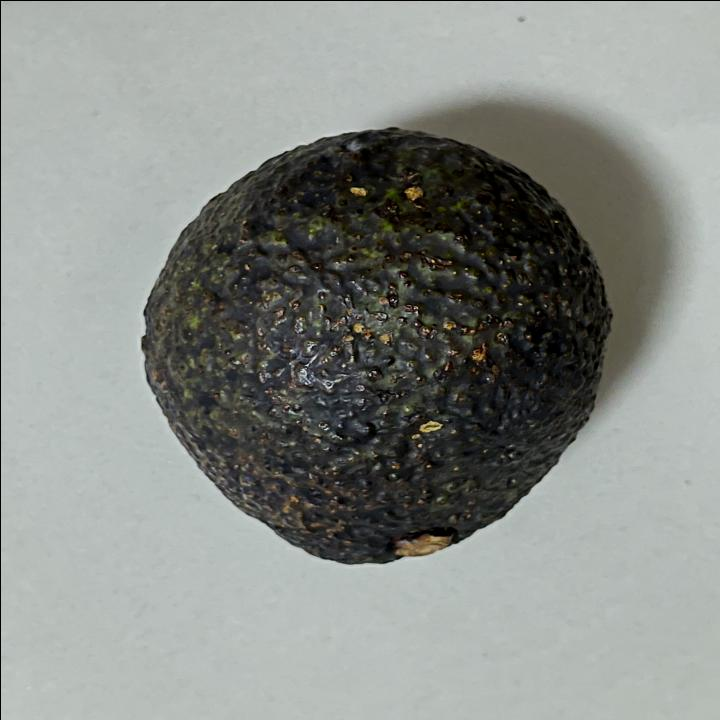Level2: (132, 115, 620, 579)
